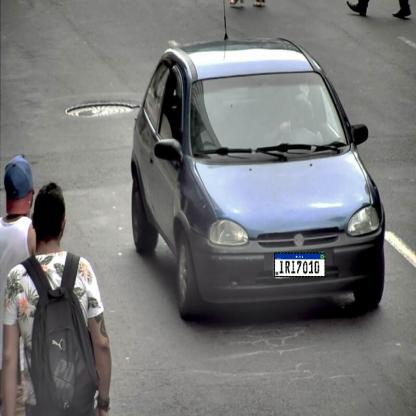PlacaM: (274, 252, 326, 277)
